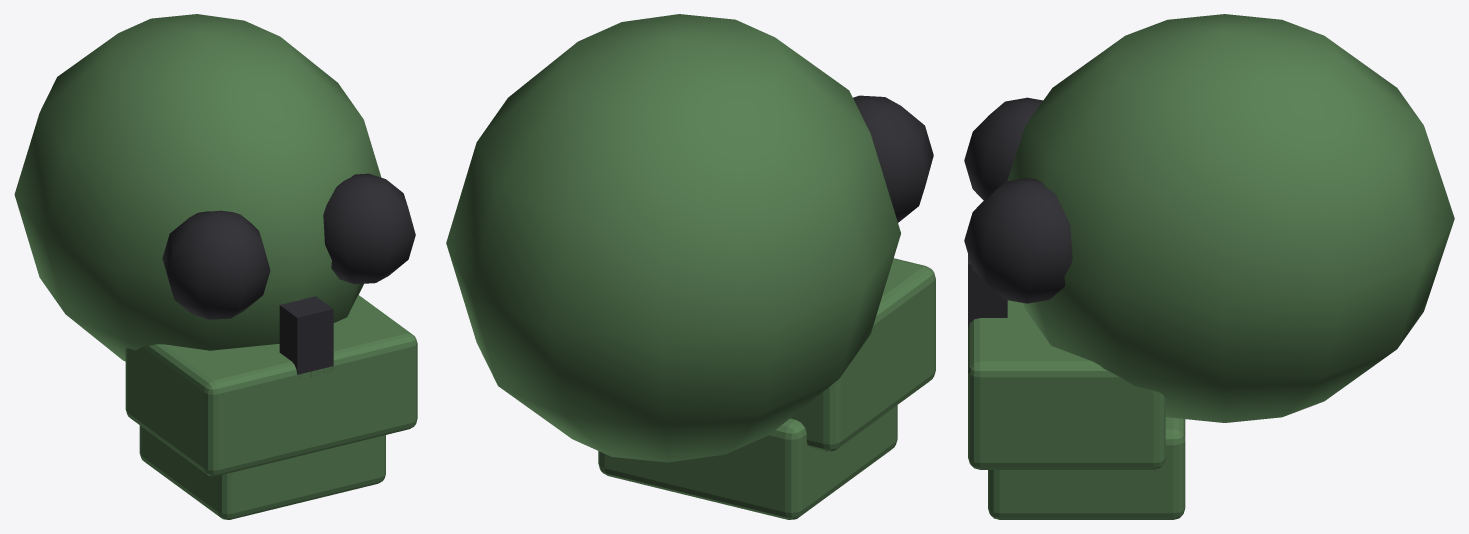
Rendered from skull_mossy.glb.
The picture shows the model from 3 angles, left to right: view 1: azimuth 30°, elevation 25°; view 2: azimuth 150°, elevation 25°; view 3: azimuth 270°, elevation 25°; orthographic projection. The views are drawn at different scales.
Parts seen in each view (by area): view 1: GD_skull_mossy__m0, GD_skull_mossy__m1; view 2: GD_skull_mossy__m0, GD_skull_mossy__m1; view 3: GD_skull_mossy__m0, GD_skull_mossy__m1.
Boxes of the visible parts, x1,y1,x2,y2 form: GD_skull_mossy__m0: (14, 14, 417, 519); GD_skull_mossy__m1: (162, 173, 415, 379); GD_skull_mossy__m0: (446, 14, 935, 519); GD_skull_mossy__m1: (853, 95, 933, 222); GD_skull_mossy__m0: (968, 14, 1454, 519); GD_skull_mossy__m1: (964, 97, 1072, 328).
Size of the model in its own units: 0.1248 by 0.1494 by 0.1491.
